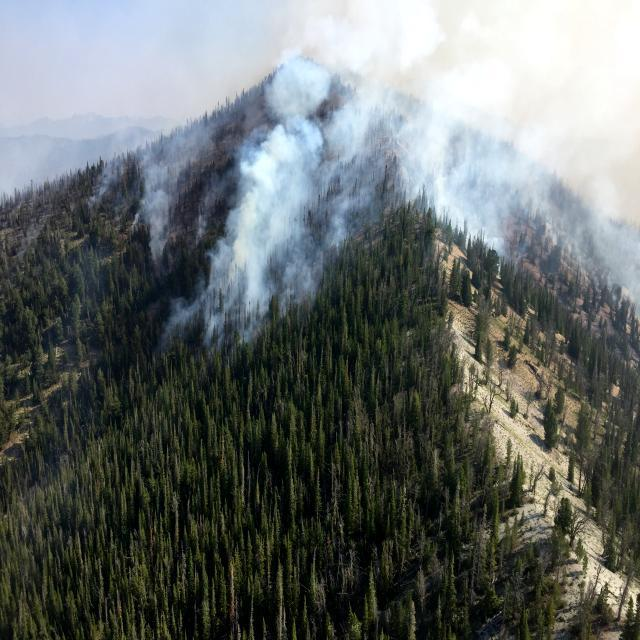Smoke: (0, 0, 633, 359)
